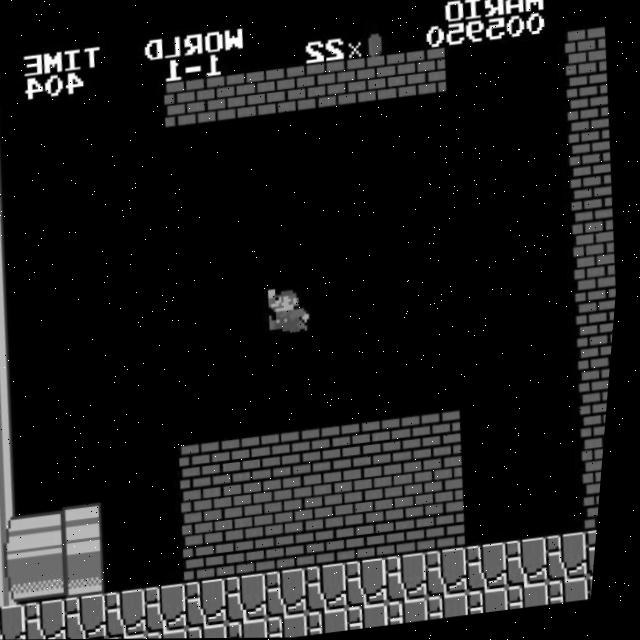1- brick_block: (385, 461, 435, 513), (321, 58, 371, 110), (348, 511, 398, 563), (305, 471, 355, 523), (401, 48, 451, 99), (428, 501, 478, 552), (201, 74, 251, 125), (225, 482, 275, 533), (228, 527, 278, 578), (185, 487, 235, 538), (388, 506, 437, 558), (242, 68, 291, 120), (266, 476, 315, 528), (268, 521, 317, 573), (562, 27, 611, 78), (567, 118, 616, 169), (426, 456, 475, 507), (362, 53, 411, 104), (383, 416, 432, 467), (346, 467, 395, 518), (282, 64, 331, 115), (303, 426, 352, 477), (308, 517, 357, 568), (162, 79, 211, 130), (183, 441, 232, 492), (188, 532, 237, 583), (423, 411, 472, 461), (343, 421, 392, 471), (263, 432, 312, 482), (223, 437, 272, 487), (570, 163, 618, 214), (573, 209, 621, 260), (575, 254, 623, 305), (565, 73, 613, 123), (577, 298, 621, 350), (580, 344, 618, 395), (584, 390, 615, 440), (586, 435, 612, 485), (589, 480, 609, 531)
11- little_mario: (269, 282, 322, 336)
14- pipe: (28, 552, 78, 604), (25, 507, 74, 559), (0, 557, 38, 608), (0, 512, 35, 562), (0, 467, 33, 517), (0, 421, 30, 472), (0, 375, 27, 426), (0, 331, 24, 381), (0, 285, 22, 336), (0, 239, 19, 290), (0, 195, 17, 245), (0, 149, 13, 199), (0, 103, 11, 154)
15- pipe_head: (65, 502, 115, 553), (68, 547, 117, 598)
17- undestructible_block: (391, 552, 440, 604), (271, 567, 320, 619), (191, 577, 240, 629), (551, 532, 600, 583), (511, 537, 560, 588), (471, 542, 520, 593), (431, 547, 480, 598), (351, 557, 400, 608), (311, 562, 360, 613), (231, 573, 280, 624), (151, 583, 200, 634), (111, 588, 160, 639), (71, 593, 120, 639), (31, 597, 80, 640), (0, 603, 40, 640), (475, 587, 520, 616), (355, 602, 400, 631), (555, 577, 600, 605), (515, 582, 560, 610), (435, 592, 480, 620), (395, 597, 440, 625), (315, 608, 360, 636), (275, 612, 320, 638), (235, 617, 279, 638), (591, 526, 606, 577), (196, 622, 240, 639), (156, 628, 200, 639), (116, 633, 159, 639)
